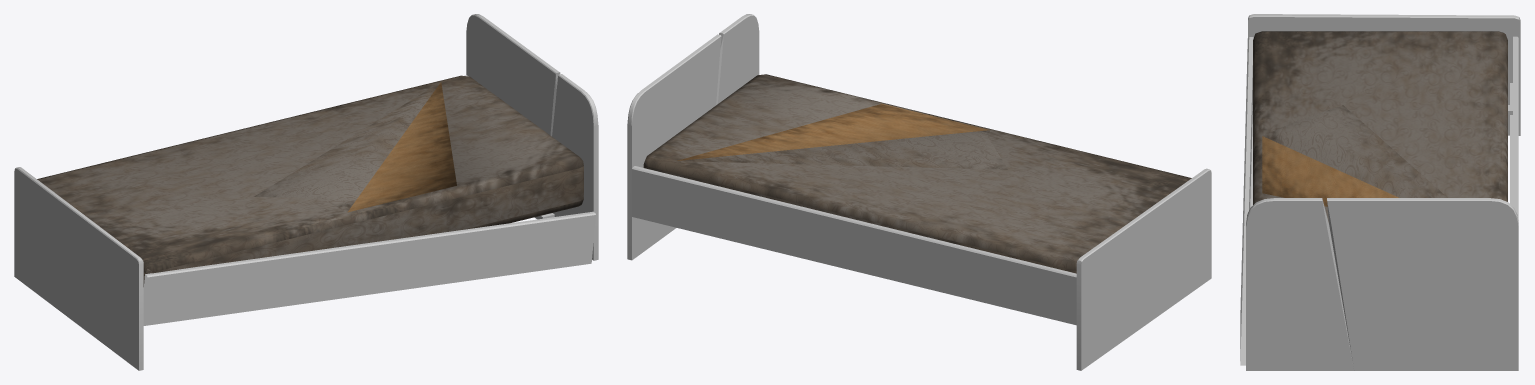
Rendered from SingleBed_broken.FBX.
3 renders of one model, left to right at view 1: azimuth 30°, elevation 25°; view 2: azimuth 150°, elevation 25°; view 3: azimuth 270°, elevation 25°, orthographic. The views are drawn at different scales.
Parts seen in each view (by area): view 1: SingleMattress_broken, SingleBed_broken; view 2: SingleMattress_broken, SingleBed_broken; view 3: SingleBed_broken, SingleMattress_broken.
Part boxes in pixels (x1=…): SingleMattress_broken: x1=37, y1=75, x2=583, y2=286; SingleBed_broken: x1=14, y1=14, x2=598, y2=370; SingleMattress_broken: x1=643, y1=74, x2=1191, y2=273; SingleBed_broken: x1=627, y1=14, x2=1211, y2=370; SingleBed_broken: x1=1240, y1=14, x2=1520, y2=370; SingleMattress_broken: x1=1253, y1=31, x2=1507, y2=222.
Bounding box in the file's own units: 195 × 96.65 × 65.
